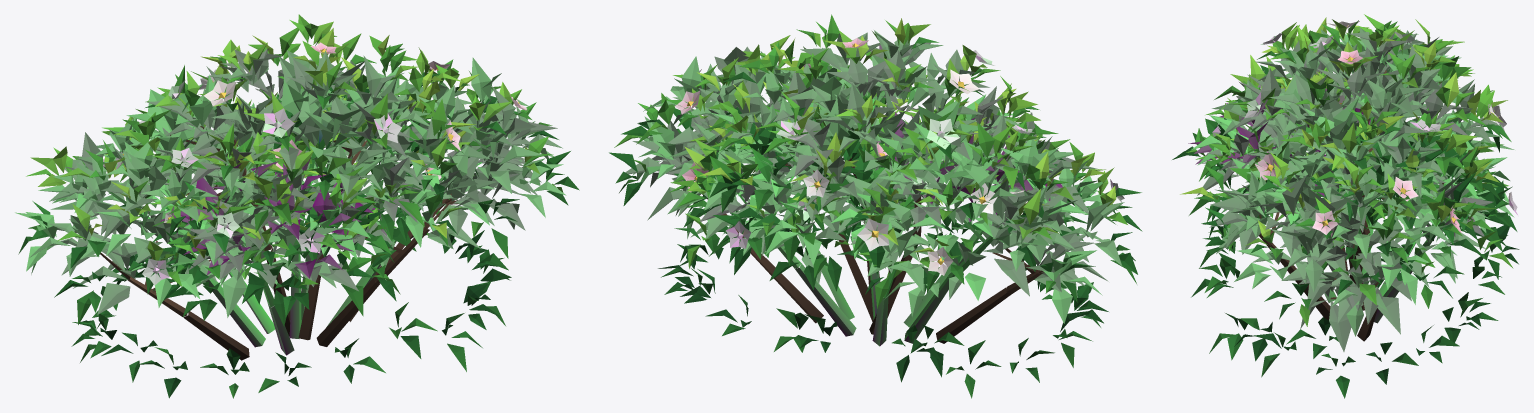
Rendered from lush_bush_hedge.glb.
3 renders of one model, left to right at view 1: azimuth 30°, elevation 25°; view 2: azimuth 150°, elevation 25°; view 3: azimuth 270°, elevation 25°, orthographic. The views are drawn at different scales.
Visible parts, largest first — view 1: BushSculptedLeaves, BushBarkTwigs, BushGardenBlossoms; view 2: BushSculptedLeaves, BushBarkTwigs, BushGardenBlossoms; view 3: BushSculptedLeaves, BushGardenBlossoms, BushBarkTwigs.
Boxes of the visible parts, left/top/right/bottom form: BushSculptedLeaves: left=15, top=14, right=579, bottom=398; BushBarkTwigs: left=100, top=126, right=499, bottom=360; BushGardenBlossoms: left=103, top=42, right=526, bottom=285; BushSculptedLeaves: left=609, top=14, right=1142, bottom=398; BushBarkTwigs: left=702, top=99, right=1044, bottom=346; BushGardenBlossoms: left=675, top=38, right=1124, bottom=275; BushSculptedLeaves: left=1172, top=14, right=1519, bottom=398; BushGardenBlossoms: left=1212, top=21, right=1517, bottom=237; BushBarkTwigs: left=1259, top=70, right=1454, bottom=341.
Bounding box in the file's own units: 2.22 × 1.24 × 1.39.
